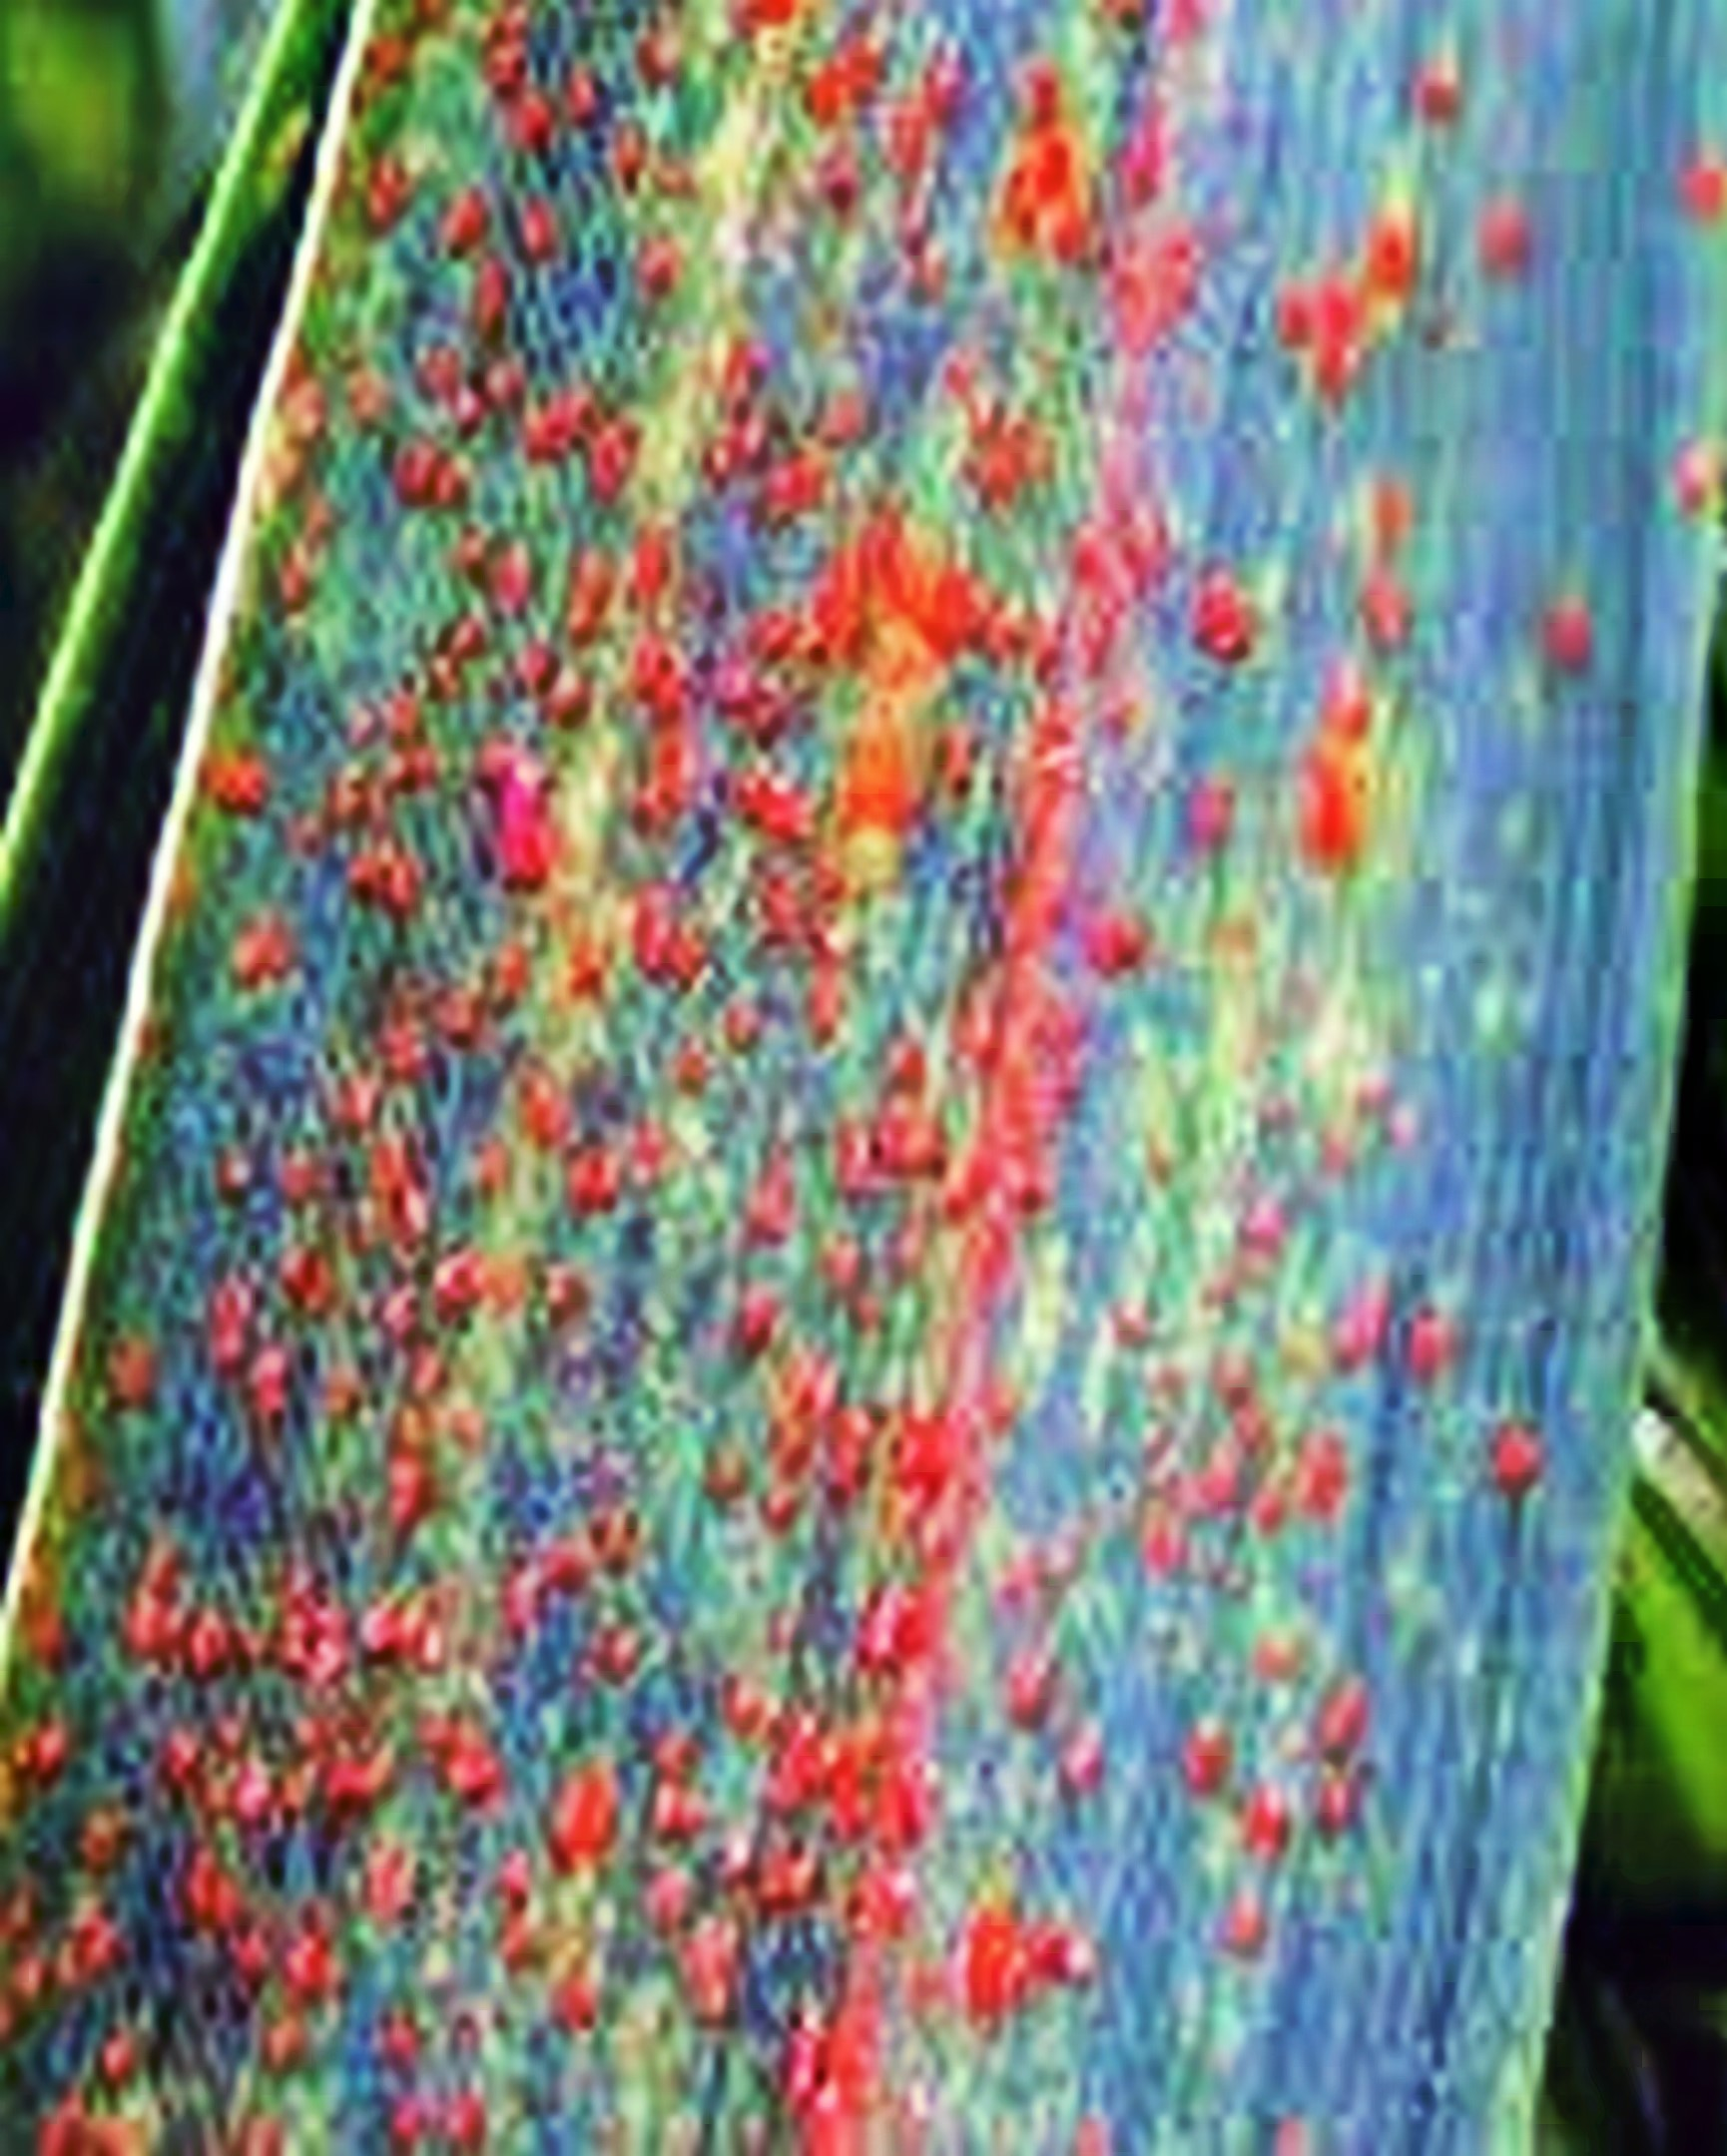Leaf Rust: (102, 248, 1542, 2142)
